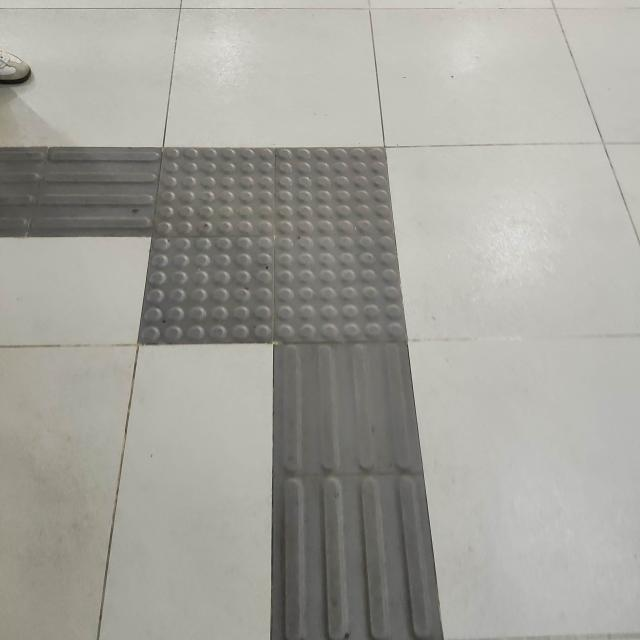kiri: (28, 98, 472, 396)
